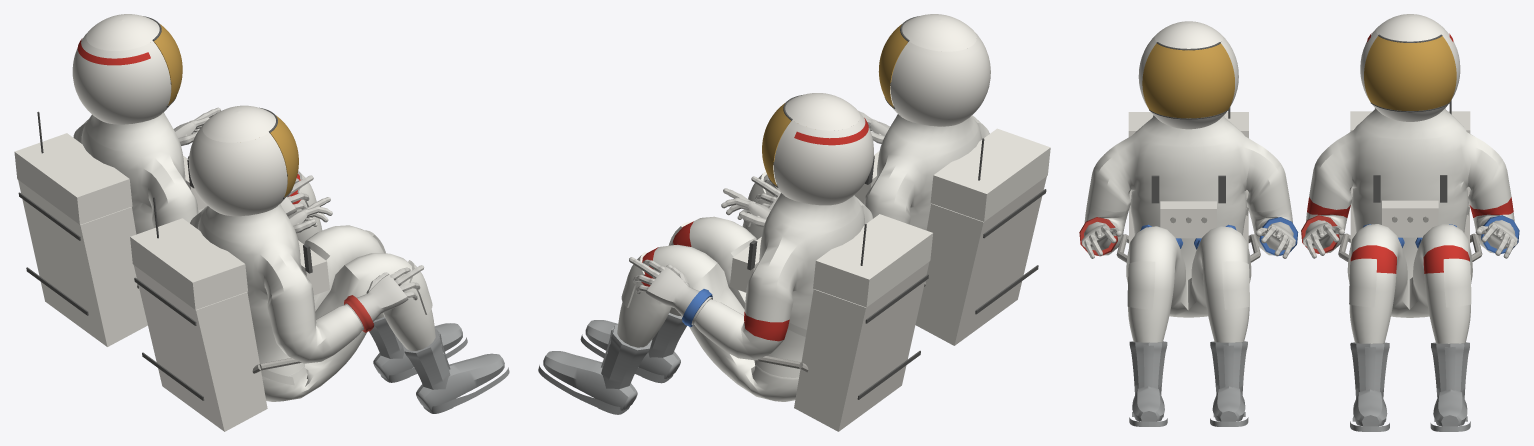
Rendered from riders.lod2.glb.
3 views of the same model, side by side, from view 1: azimuth 30°, elevation 25°; view 2: azimuth 150°, elevation 25°; view 3: azimuth 270°, elevation 25° (orthographic). The views are drawn at different scales.
Parts seen in each view (by area): view 1: Schmitt_Helmet_OuterThermalCover, Cernan_Helmet_OuterThermalCover, Schmitt_Arms_Sleeves, Cernan_Legs_Stowage, Schmitt_Boots_Sole, Schmitt_Gloves_PressureGloves, Cernan_Gloves_PressureGloves, Schmitt_Helmet_VisorRim, Cernan_Helmet_GoldSunVisor, Schmitt_Helmet_GoldSunVisor, Cernan_Helmet_VisorRim, Cernan_Helmet_CommanderBand; view 2: Cernan_Helmet_OuterThermalCover, Schmitt_Helmet_OuterThermalCover, Cernan_Legs_Stowage, Cernan_Legs_Trousers, Schmitt_Arms_Sleeves, Cernan_Boots_Sole, Cernan_Arms_Sleeves, Cernan_Gloves_PressureGloves, Cernan_Helmet_VisorRim, Cernan_Helmet_GoldSunVisor, Schmitt_Helmet_GoldSunVisor, Schmitt_Helmet_VisorRim (+2 smaller); view 3: Schmitt_Arms_Sleeves, Cernan_Legs_Stowage, Cernan_Legs_Trousers, Cernan_Boots_Sole, Schmitt_Helmet_GoldSunVisor, Cernan_Helmet_GoldSunVisor, Schmitt_Helmet_OuterThermalCover, Schmitt_Boots_Sole, Cernan_Helmet_OuterThermalCover, Cernan_Gloves_PressureGloves, Schmitt_Gloves_PressureGloves, Cernan_Arms_Sleeves (+6 smaller).
Boxes of the visible parts, x1,y1,x2,y2 form: Schmitt_Helmet_OuterThermalCover: [130, 105, 329, 431]; Cernan_Helmet_OuterThermalCover: [14, 14, 207, 346]; Schmitt_Arms_Sleeves: [190, 204, 435, 401]; Cernan_Legs_Stowage: [73, 112, 319, 234]; Schmitt_Boots_Sole: [369, 316, 509, 413]; Schmitt_Gloves_PressureGloves: [288, 197, 423, 330]; Cernan_Gloves_PressureGloves: [173, 107, 313, 216]; Schmitt_Helmet_VisorRim: [134, 107, 312, 400]; Cernan_Helmet_GoldSunVisor: [154, 24, 182, 105]; Schmitt_Helmet_GoldSunVisor: [270, 115, 298, 197]; Cernan_Helmet_VisorRim: [18, 16, 194, 315]; Cernan_Helmet_CommanderBand: [77, 38, 150, 65]; Cernan_Helmet_OuterThermalCover: [729, 93, 933, 431]; Schmitt_Helmet_OuterThermalCover: [854, 14, 1050, 345]; Cernan_Legs_Stowage: [621, 193, 872, 377]; Cernan_Legs_Trousers: [617, 216, 798, 401]; Schmitt_Arms_Sleeves: [742, 114, 989, 239]; Cernan_Boots_Sole: [538, 312, 686, 414]; Cernan_Arms_Sleeves: [694, 299, 789, 360]; Cernan_Gloves_PressureGloves: [629, 188, 770, 325]; Cernan_Helmet_VisorRim: [747, 95, 928, 399]; Cernan_Helmet_GoldSunVisor: [762, 102, 791, 185]; Schmitt_Helmet_GoldSunVisor: [878, 24, 907, 107]; Schmitt_Helmet_VisorRim: [864, 16, 1046, 314]; Schmitt_Arms_Sleeves: [1084, 115, 1292, 342]; Cernan_Legs_Stowage: [1309, 108, 1511, 307]; Cernan_Legs_Trousers: [1347, 224, 1472, 343]; Cernan_Boots_Sole: [1350, 342, 1470, 431]; Schmitt_Helmet_GoldSunVisor: [1142, 43, 1234, 118]; Cernan_Helmet_GoldSunVisor: [1364, 36, 1456, 110]; Schmitt_Helmet_OuterThermalCover: [1128, 21, 1248, 247]; Schmitt_Boots_Sole: [1129, 341, 1248, 426]; Cernan_Helmet_OuterThermalCover: [1350, 14, 1470, 244]; Cernan_Gloves_PressureGloves: [1303, 220, 1517, 258]; Schmitt_Gloves_PressureGloves: [1081, 222, 1295, 258]; Cernan_Arms_Sleeves: [1306, 197, 1514, 253].
Size of the model in its own units: 1.18 by 1.14 by 1.41.
